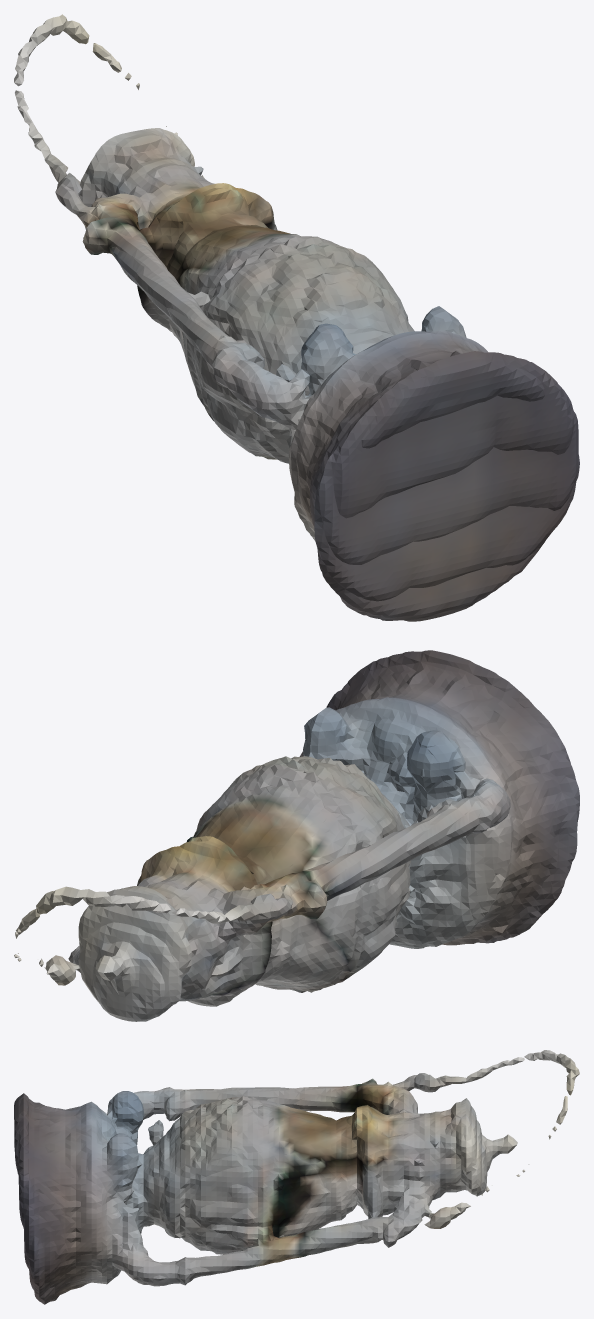
The model's file is lantern-1-4f008ea027c5.glb.
3 views of the same model, one above another, from view 1: azimuth 30°, elevation 25°; view 2: azimuth 150°, elevation 25°; view 3: azimuth 270°, elevation 25° (orthographic). The views are drawn at different scales.
Parts seen in each view (by area): view 1: world; view 2: world; view 3: world.
Boxes of the visible parts, x1,y1,x2,y2 form: world: [14, 14, 579, 621]; world: [14, 650, 579, 1021]; world: [14, 1050, 579, 1304].
Size of the model in its own units: 0.3884 by 0.4457 by 0.9901.
